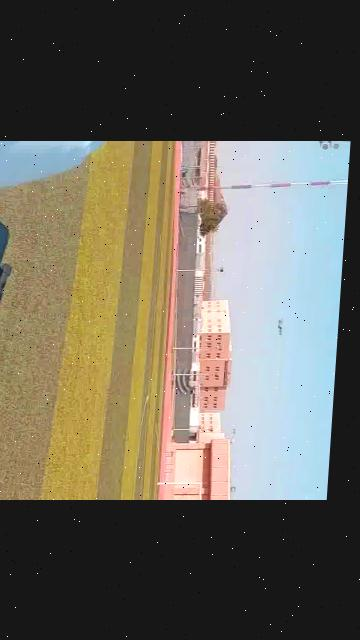drone: (280, 316, 299, 344)
